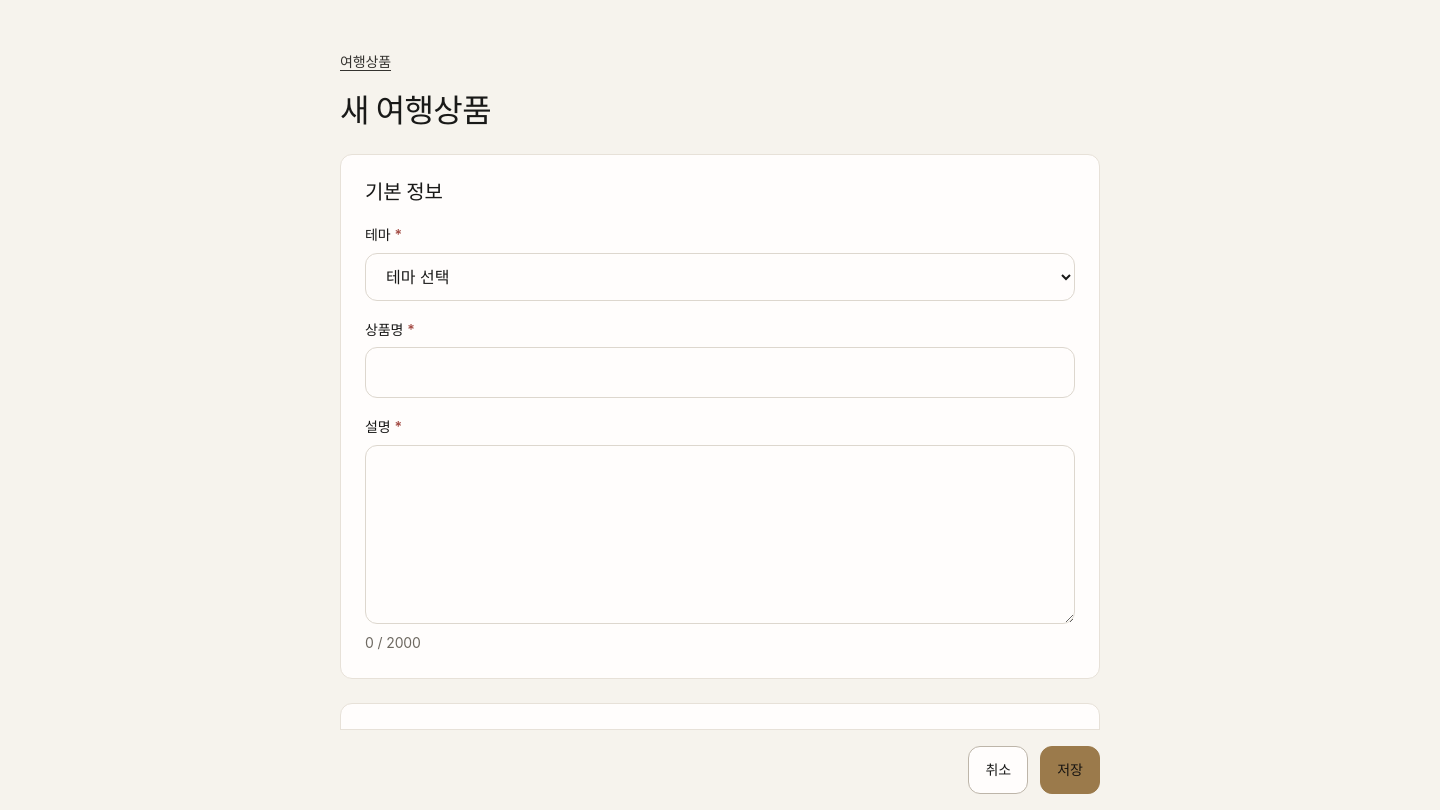
Test: E03 product create › asks before leaving with unsaved input and keeps values on stay
The width and height of the screenshot is (1440, 810).
Type "작성 중" into the field labelled "상품명 *". click: [720, 373]
box: [365,347,1075,398]
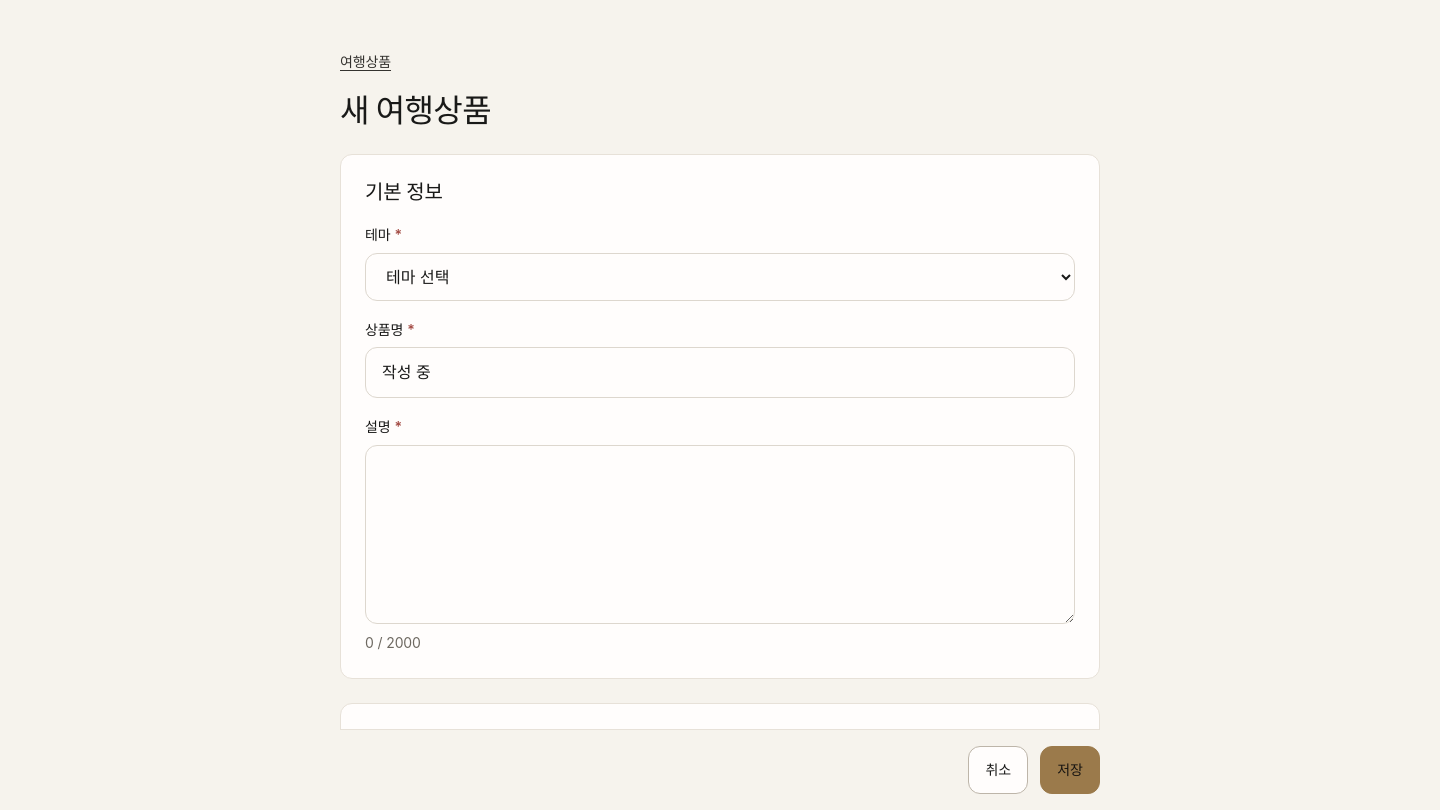
Click the button "취소". click: [998, 770]
box: [968,746,1028,794]
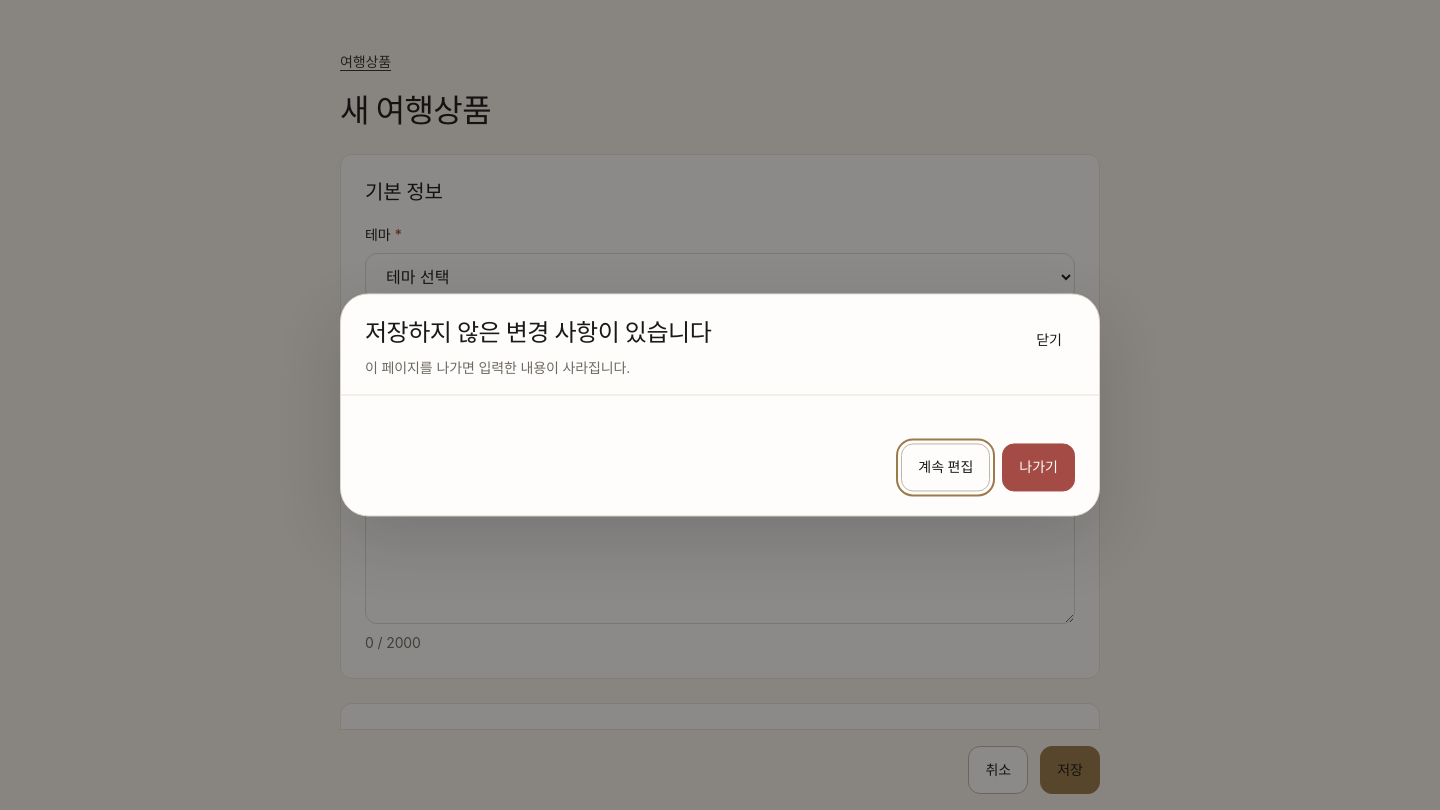
Result: the heading "저장하지 않은 변경 사항이 있습니다" is shown at [365,318,711,349]
Click the button "계속 편집". click: [946, 468]
box: [901,444,990,492]
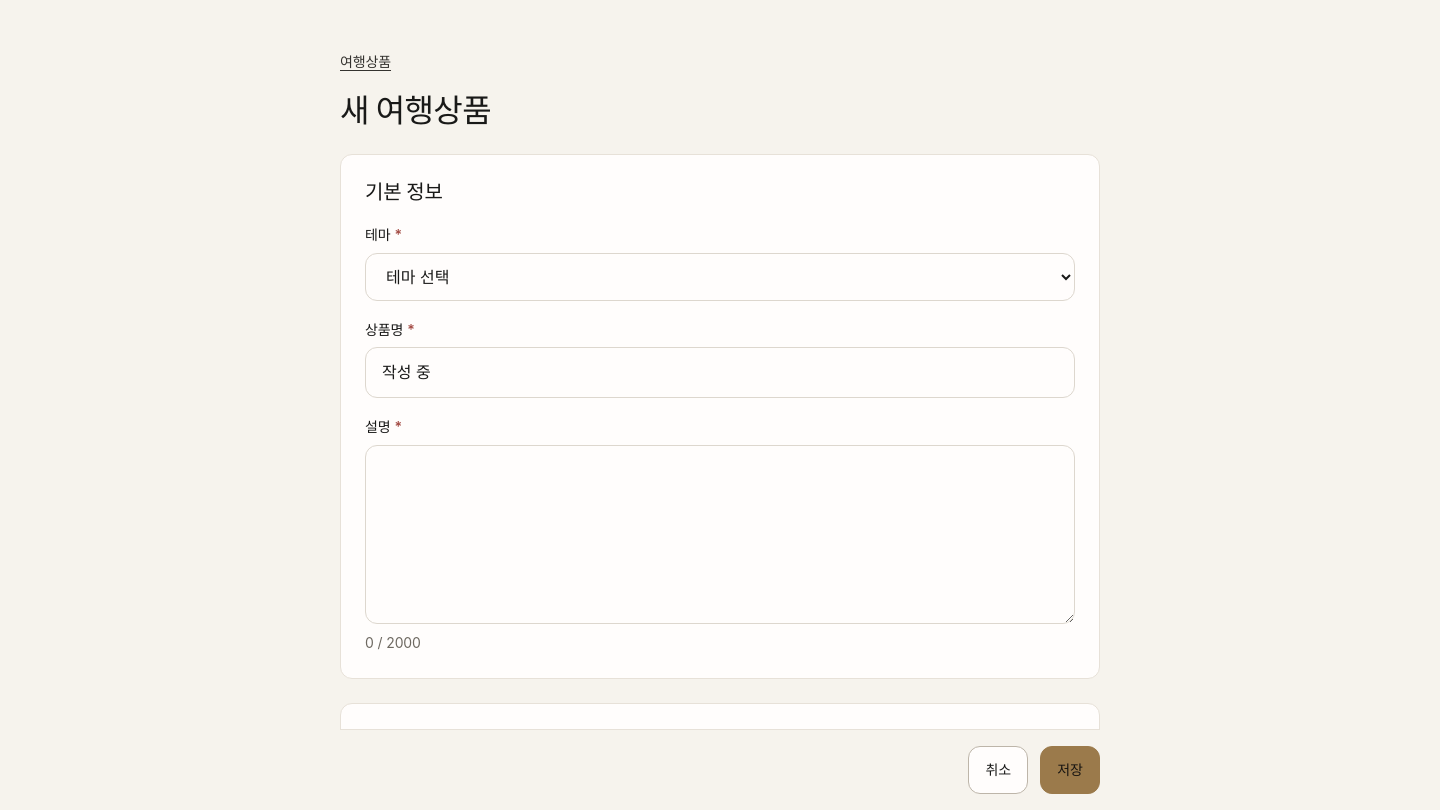
Result: the heading "저장하지 않은 변경 사항이 있습니다" is gone
